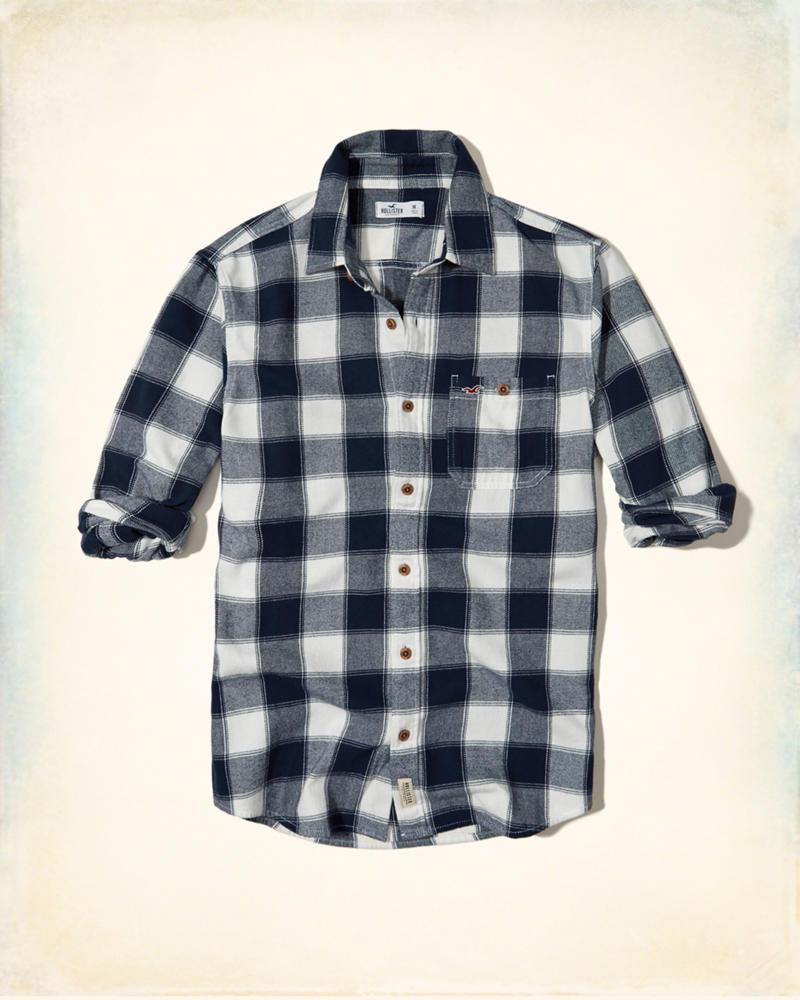teeshirt: (68, 113, 742, 871)
